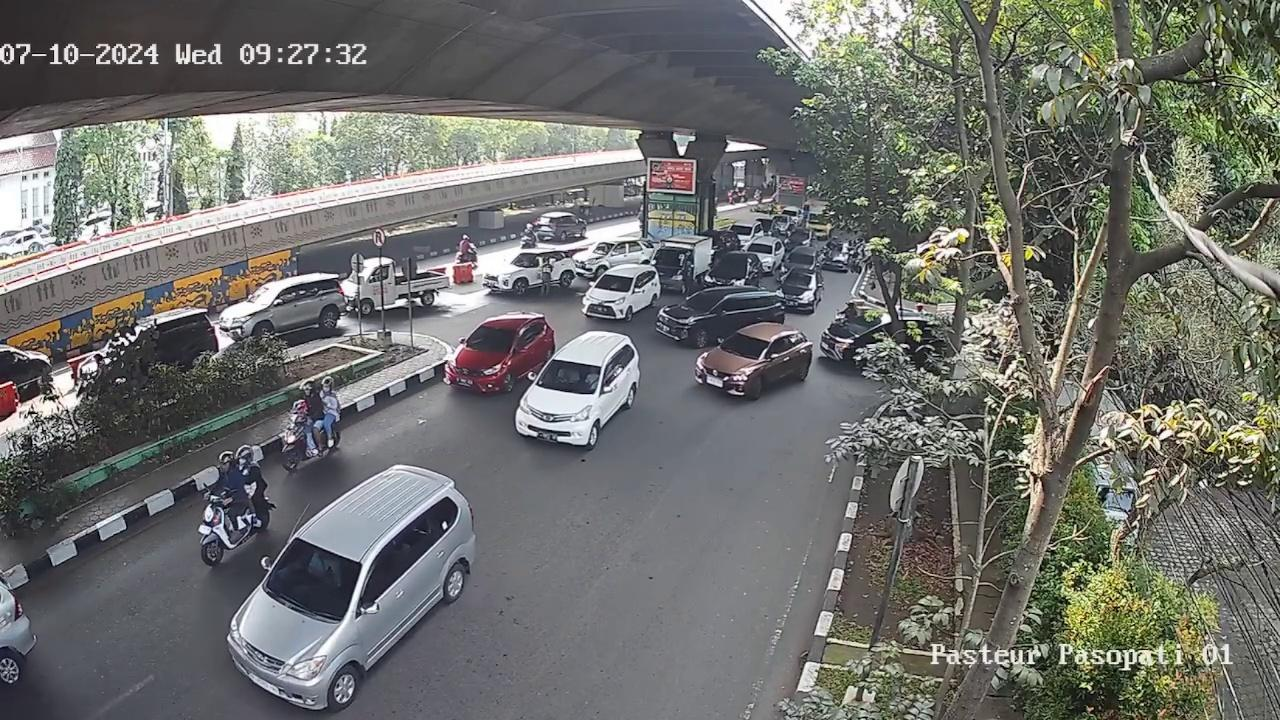pakai: (303, 553, 344, 591), (585, 372, 599, 389)
tidak-pakai: (557, 367, 578, 382)
windshield: (265, 535, 366, 629), (539, 359, 606, 394), (717, 330, 776, 358), (465, 326, 513, 352), (595, 273, 635, 293)
